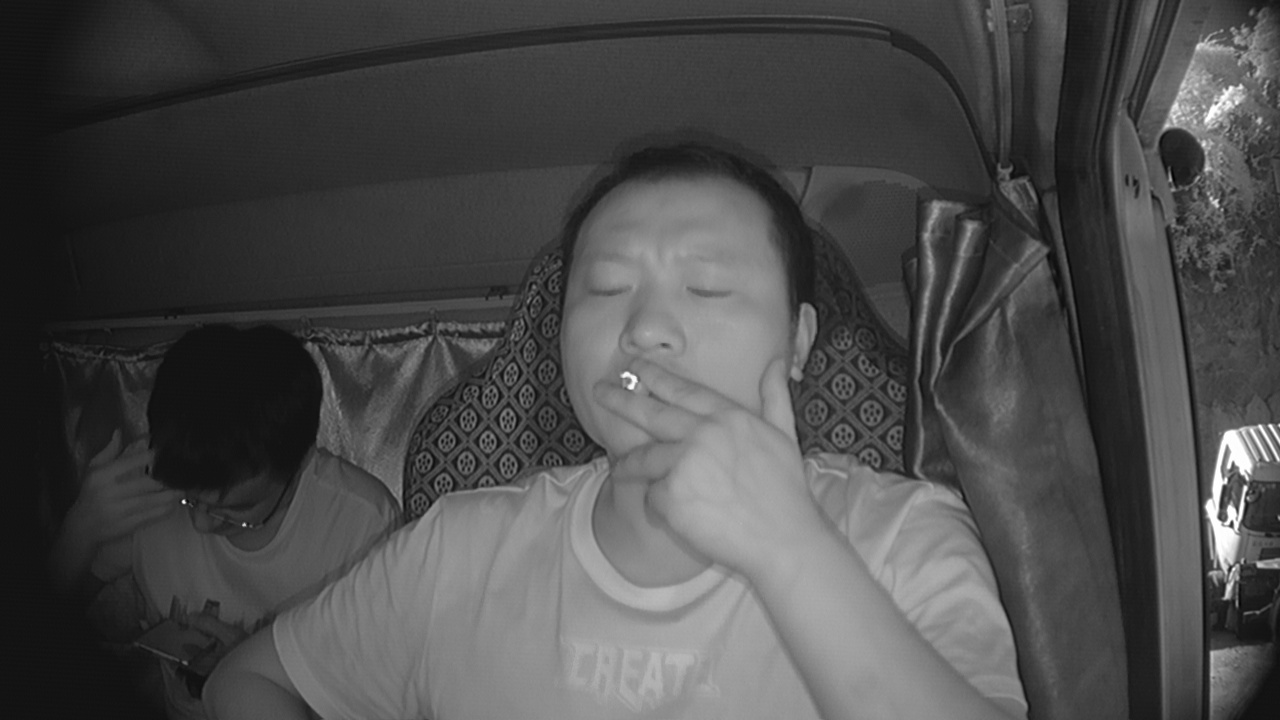hand: (589, 358, 811, 559)
